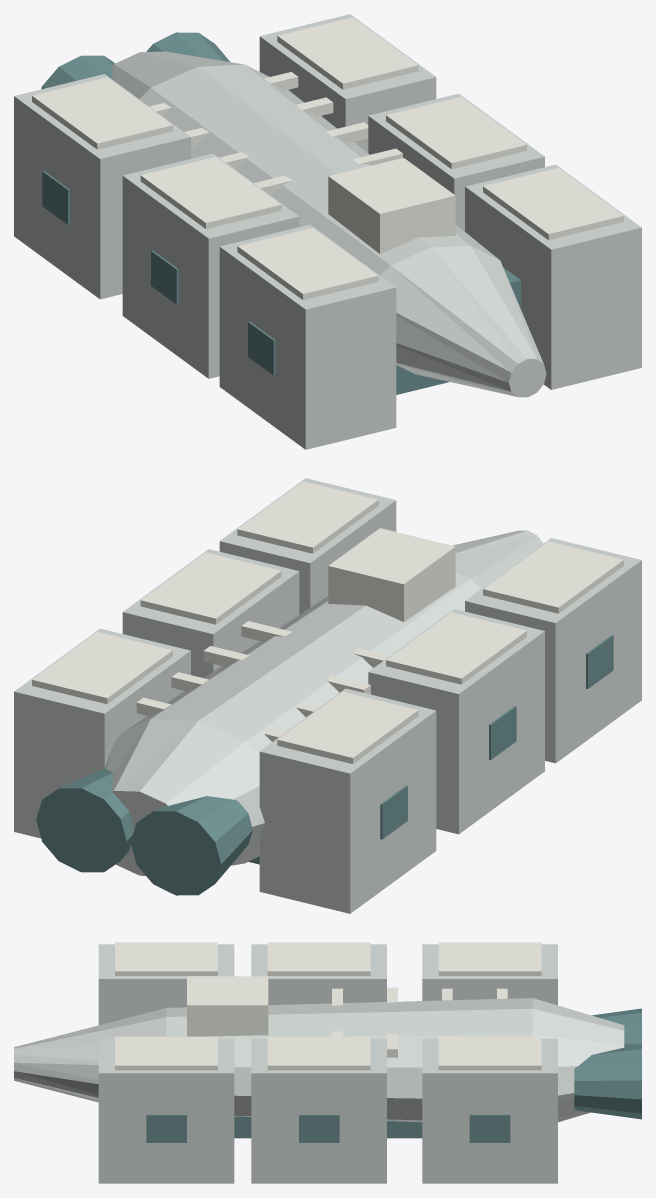
The picture shows the model from 3 angles, top to bottom: view 1: azimuth 30°, elevation 25°; view 2: azimuth 150°, elevation 25°; view 3: azimuth 270°, elevation 25°; orthographic projection. The views are drawn at different scales.
Size of the model in its own units: 4.46 by 2.05 by 9.07.
